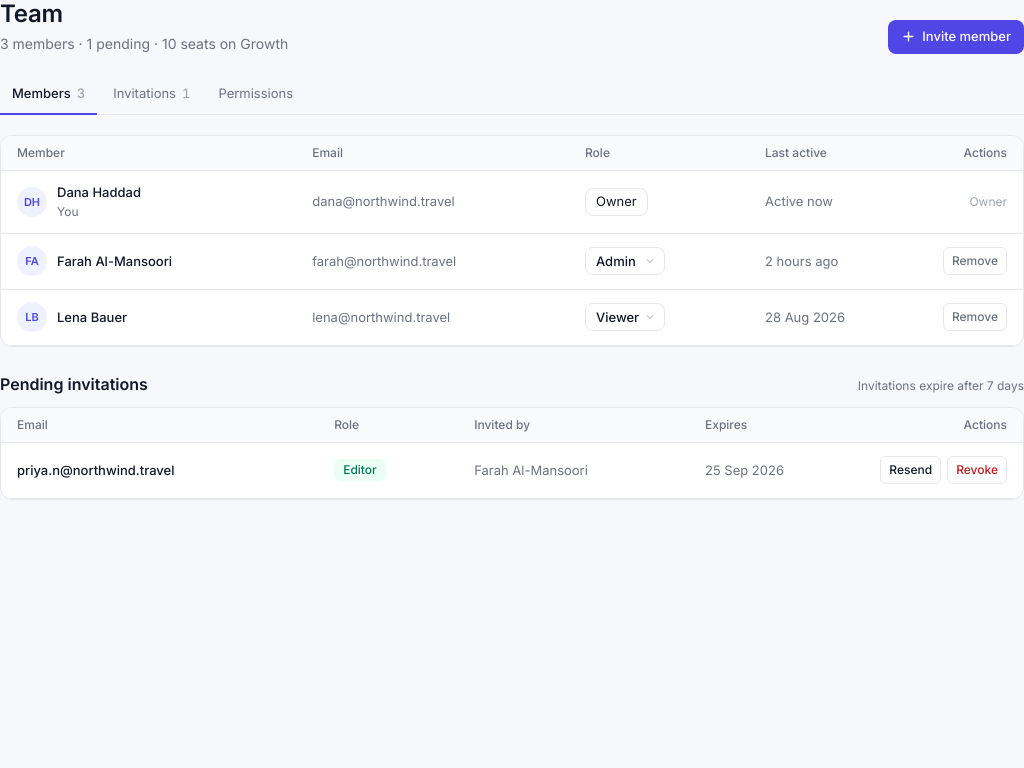
Scenario: the team page (J2a) › never offers Owner as an invitable role, and says where ownership comes from
Click the button "Invite member" at (956, 37), box [888,20,1023,54]
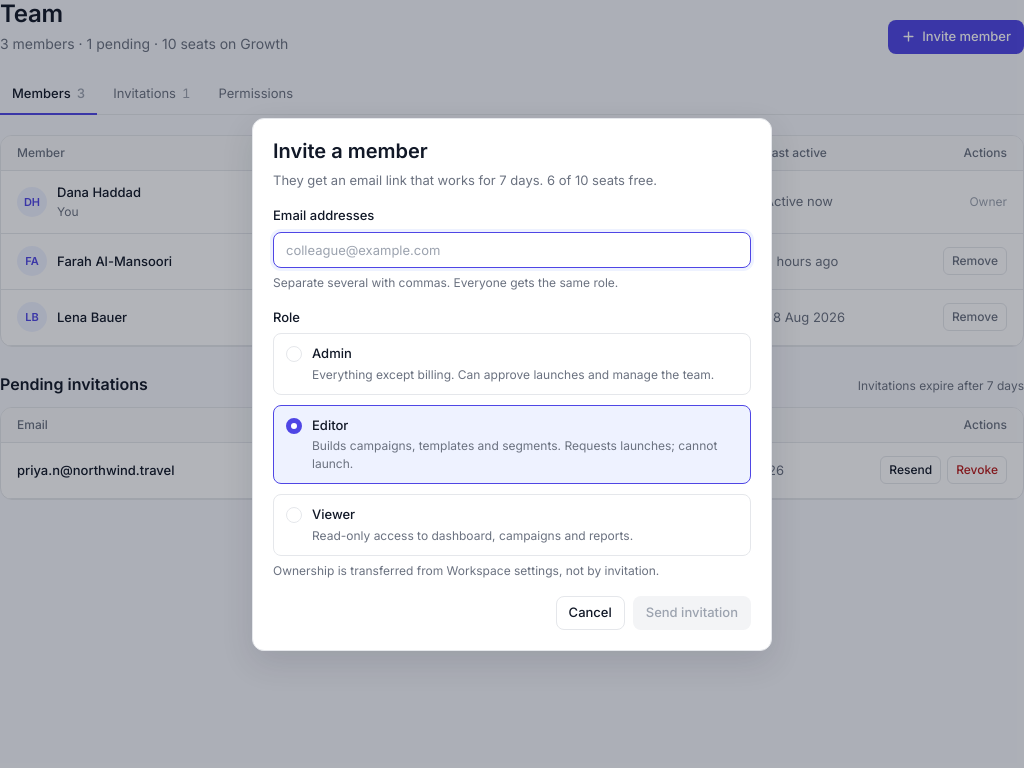
Check: the text "They get an email link that works for 7 days. 6 of 10 seats free." is shown, box [273,172,657,188]
Check: the text "Ownership is transferred from Workspace settings, not by invitation." is shown, box [273,562,659,578]
